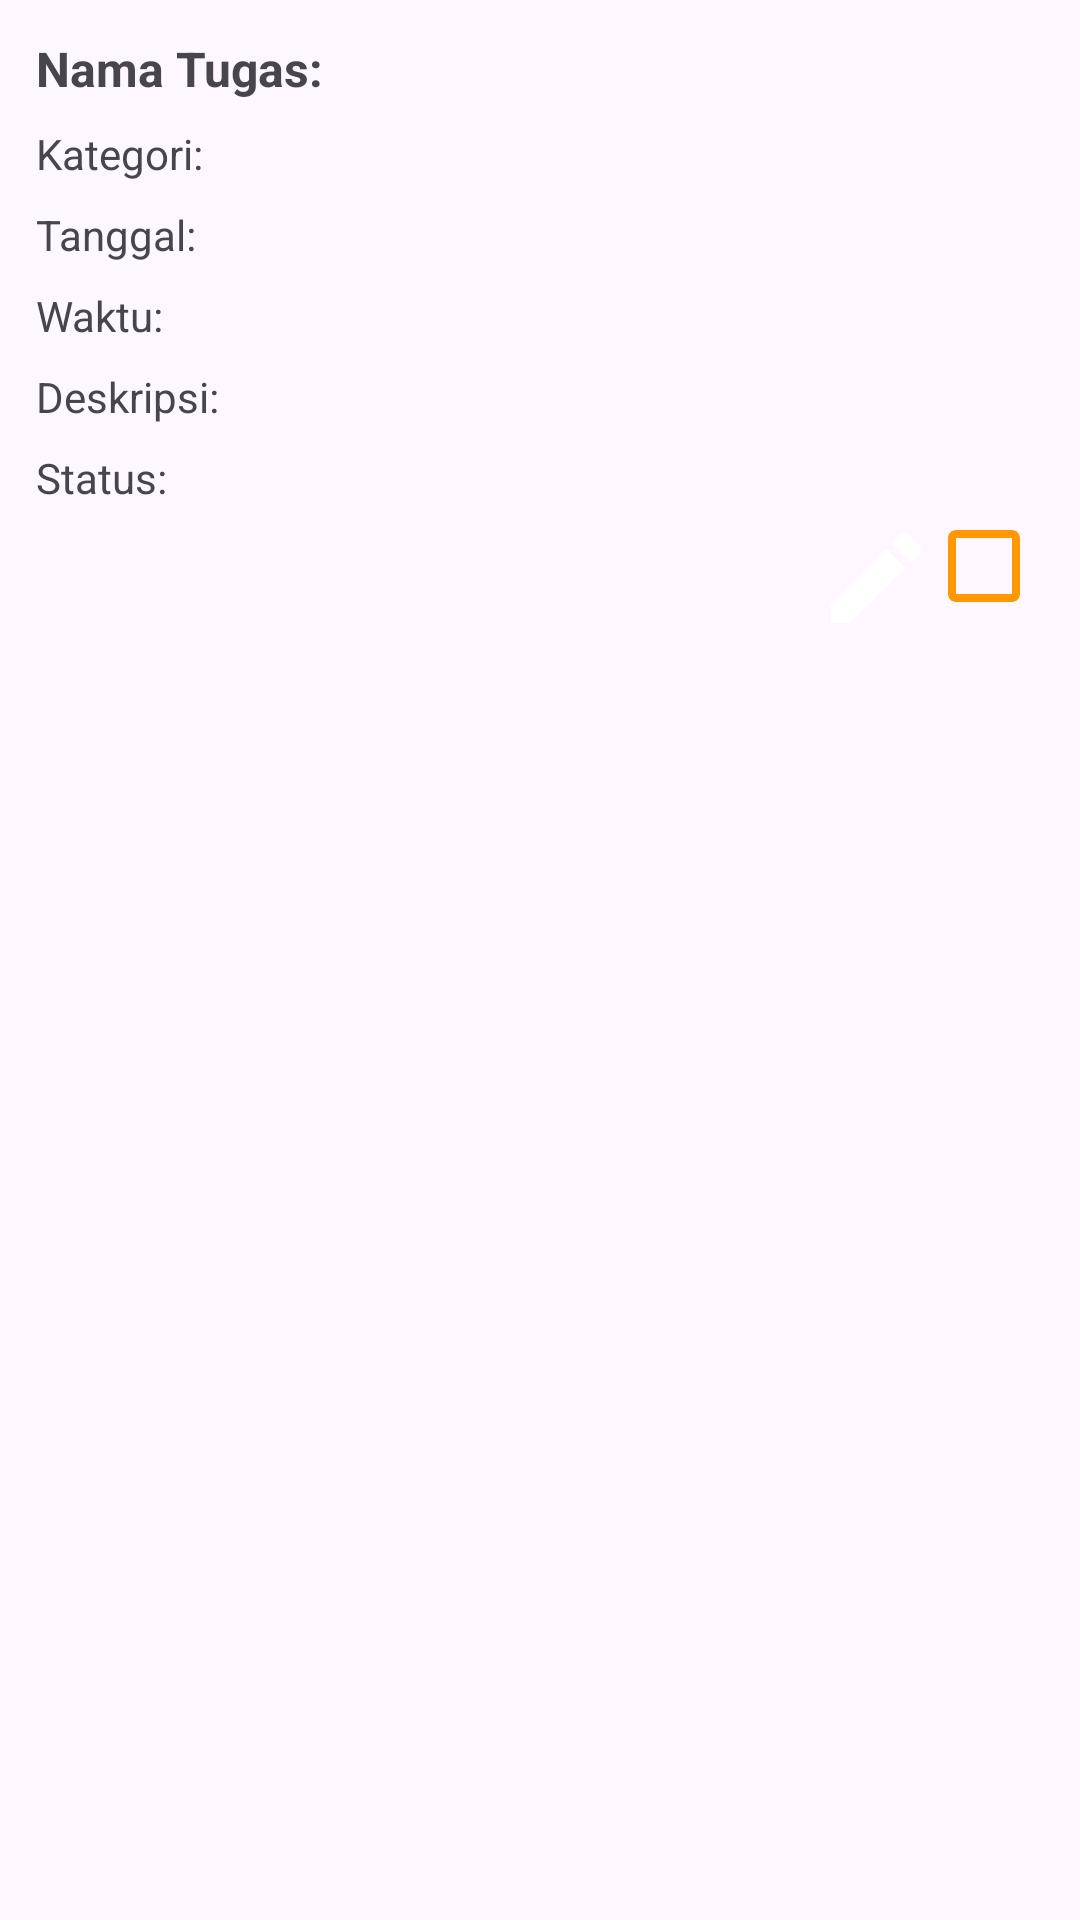

Icon bounding boxes for this 1080×1920 phone screenshot, format box(x1, y1, x2, y2):
Mark as complete: box(948, 530, 1020, 602)
